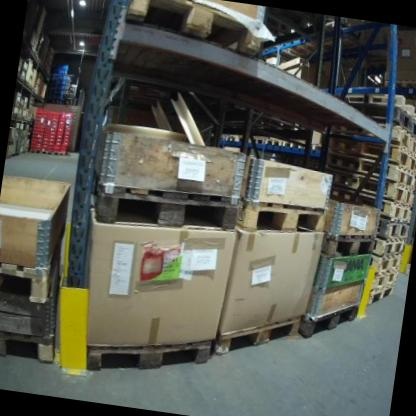pallet: (82, 176, 242, 240), (82, 319, 216, 390), (127, 0, 268, 56), (212, 305, 303, 367), (232, 190, 327, 246), (0, 224, 64, 305), (327, 150, 416, 187), (329, 134, 416, 170), (297, 296, 359, 344), (331, 172, 414, 204), (0, 322, 58, 366), (318, 226, 375, 266), (368, 277, 397, 308), (389, 125, 416, 157), (373, 235, 405, 257), (373, 263, 401, 288), (377, 218, 408, 239), (380, 201, 411, 222), (391, 110, 416, 135), (382, 77, 416, 95), (377, 253, 402, 269), (263, 137, 282, 148), (247, 134, 266, 145), (282, 138, 301, 148), (225, 132, 239, 142), (52, 151, 65, 157), (41, 150, 53, 155), (29, 149, 41, 154), (6, 153, 12, 159), (21, 67, 26, 73), (14, 103, 19, 108), (18, 150, 23, 155), (29, 74, 33, 79), (22, 107, 26, 111)
